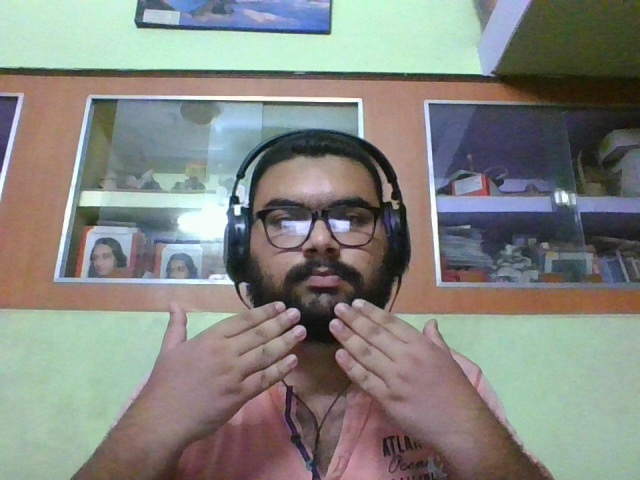thankyou: (133, 297, 499, 463)
